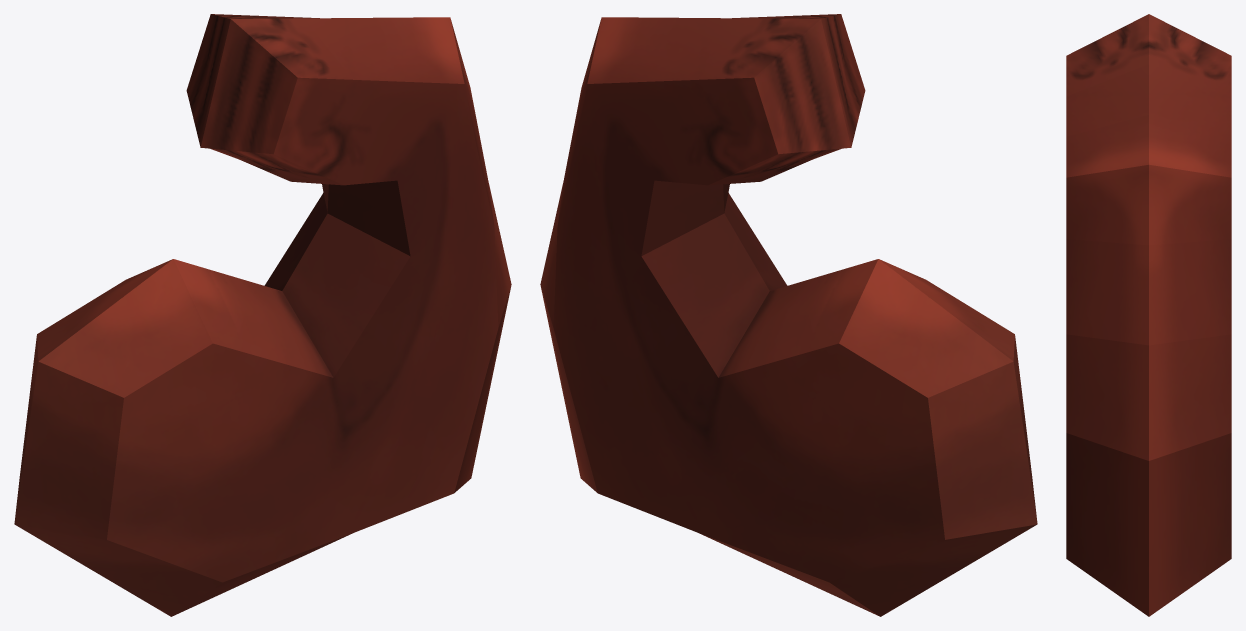
Rendered from fortitude.fbx.
The picture shows the model from 3 angles, left to right: view 1: azimuth 30°, elevation 25°; view 2: azimuth 150°, elevation 25°; view 3: azimuth 270°, elevation 25°; orthographic projection. The views are drawn at different scales.
Visible parts, largest first — view 1: Cube; view 2: Cube; view 3: Cube.
Boxes of the visible parts, x1,y1,x2,y2 form: Cube: [14, 14, 511, 616]; Cube: [540, 14, 1037, 616]; Cube: [1066, 14, 1231, 616].
Size of the model in its own units: 659 by 739 by 200.
1 material, 1 textured.
